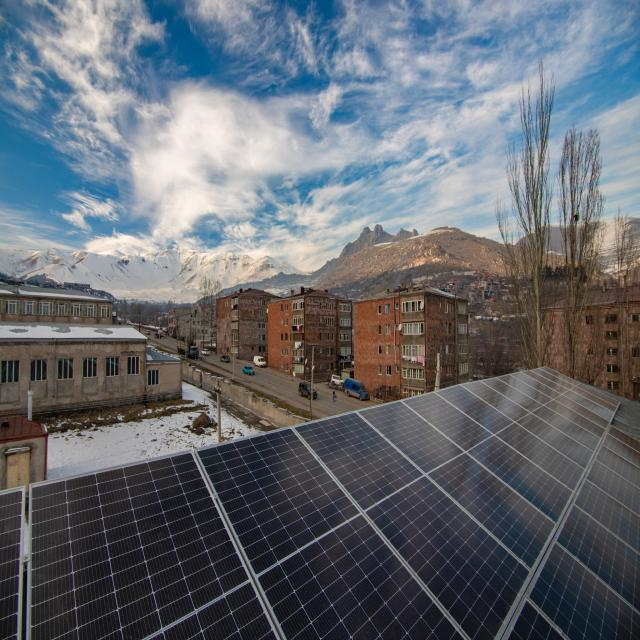clean-solar-panel: (29, 368, 640, 640)
